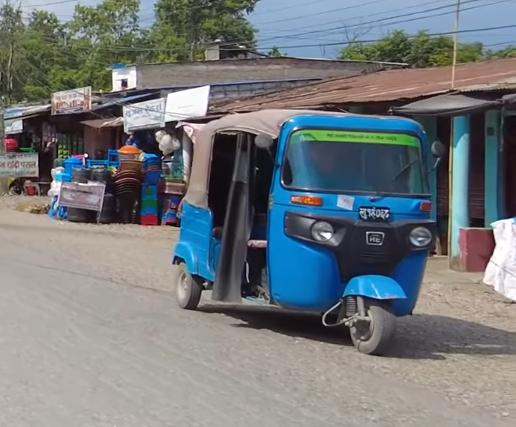auto_rickshaw: (171, 104, 439, 359)
